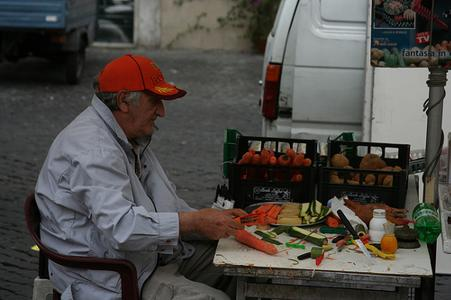person: (35, 54, 253, 300)
